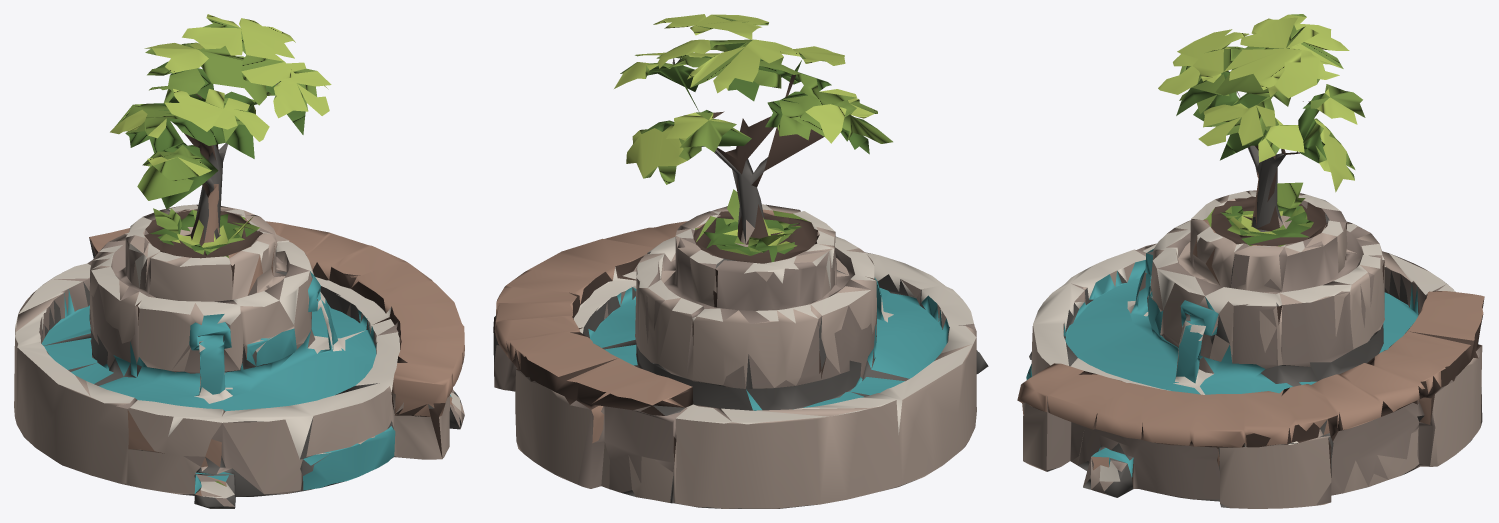
Rendered from fountain-DSXC6aQC.glb.
3 views of the same model, side by side, from view 1: azimuth 30°, elevation 25°; view 2: azimuth 150°, elevation 25°; view 3: azimuth 270°, elevation 25° (orthographic). The views are drawn at different scales.
Visible parts, largest first — view 1: tripo_node_7f848097-ae42-49b0-8c38-21a6ca52af01; view 2: tripo_node_7f848097-ae42-49b0-8c38-21a6ca52af01; view 3: tripo_node_7f848097-ae42-49b0-8c38-21a6ca52af01.
Part boxes in pixels (<box>): tripo_node_7f848097-ae42-49b0-8c38-21a6ca52af01: <box>14,14,464,508</box>; tripo_node_7f848097-ae42-49b0-8c38-21a6ca52af01: <box>493,14,988,508</box>; tripo_node_7f848097-ae42-49b0-8c38-21a6ca52af01: <box>1017,14,1484,508</box>.
Size of the model in its own units: 0.9789 by 0.8892 by 0.9717.
